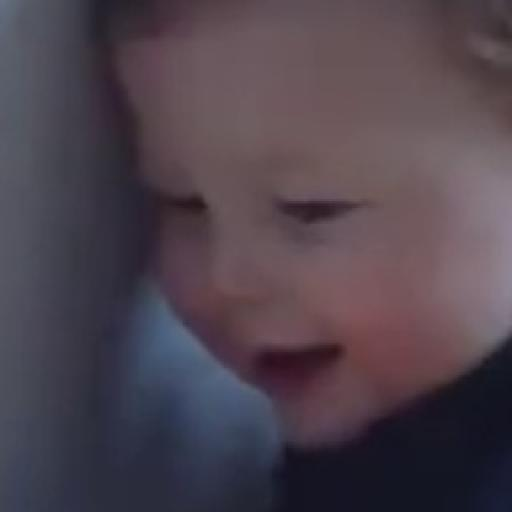Autism: (101, 4, 512, 470)
